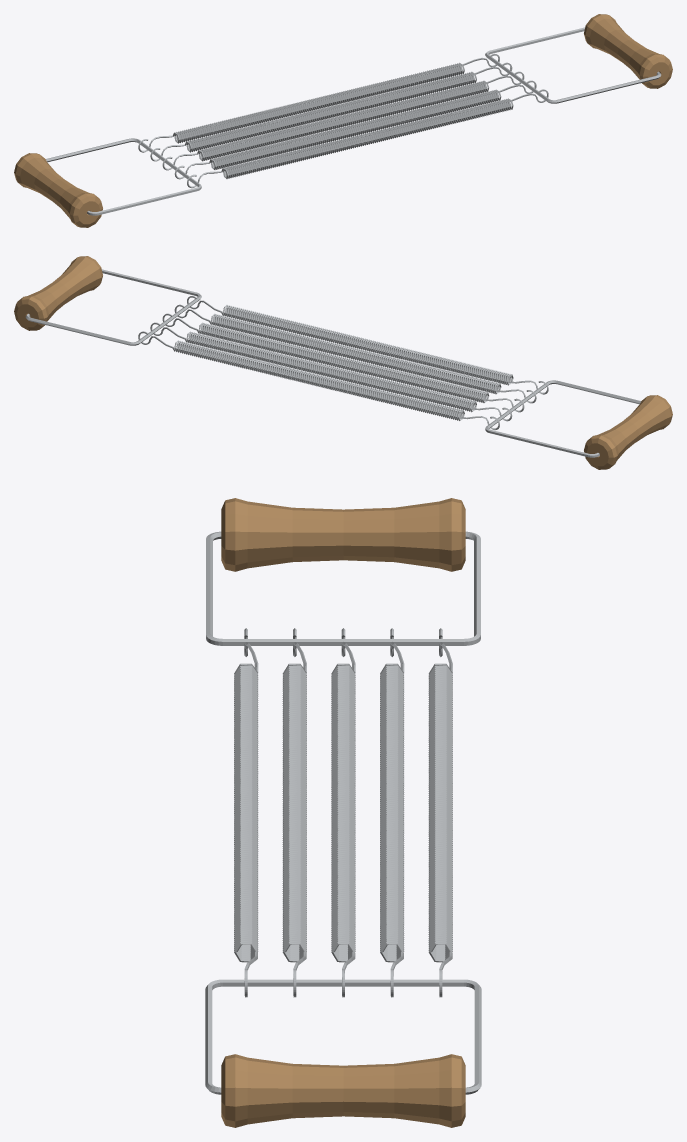
File: NEW577_chest_expander_LOD2.glb
3 renders of one model, top to bottom at view 1: azimuth 30°, elevation 25°; view 2: azimuth 150°, elevation 25°; view 3: azimuth 270°, elevation 25°, orthographic. The views are drawn at different scales.
Parts seen in each view (by area): view 1: Spring_1, Spring_2, Spring_3, Spring_5, Spring_4, Grip_-1, Grip_1, Frame_1, Frame_-1; view 2: Spring_5, Spring_4, Spring_2, Spring_1, Spring_3, Grip_-1, Grip_1, Frame_1, Frame_-1; view 3: Grip_-1, Grip_1, Spring_3, Spring_5, Spring_1, Spring_2, Spring_4, Frame_1, Frame_-1.
Boxes of the visible parts, left/top/right/bottom form: Spring_1: left=187, top=89, right=548, bottom=188; Spring_2: left=174, top=80, right=536, bottom=179; Spring_3: left=162, top=71, right=524, bottom=170; Spring_5: left=138, top=53, right=499, bottom=152; Spring_4: left=150, top=62, right=512, bottom=161; Grip_-1: left=14, top=153, right=102, bottom=227; Grip_1: left=584, top=14, right=672, bottom=88; Frame_1: left=485, top=27, right=661, bottom=103; Frame_-1: left=45, top=138, right=201, bottom=215; Spring_5: left=138, top=331, right=499, bottom=430; Spring_4: left=150, top=322, right=512, bottom=421; Spring_2: left=174, top=304, right=536, bottom=403; Spring_1: left=187, top=296, right=548, bottom=394; Spring_3: left=162, top=313, right=524, bottom=412; Grip_-1: left=584, top=395, right=672, bottom=469; Grip_1: left=14, top=256, right=102, bottom=330; Frame_1: left=25, top=269, right=201, bottom=345; Frame_-1: left=485, top=380, right=641, bottom=457; Grip_-1: left=221, top=498, right=465, bottom=571; Grip_1: left=221, top=1054, right=465, bottom=1127; Spring_3: left=331, top=628, right=355, bottom=997; Spring_5: left=428, top=628, right=452, bottom=997; Spring_1: left=234, top=628, right=258, bottom=997; Spring_2: left=282, top=628, right=306, bottom=997; Spring_4: left=380, top=628, right=404, bottom=997; Frame_1: left=205, top=979, right=481, bottom=1094; Frame_-1: left=206, top=531, right=480, bottom=645.
Size of the model in its own units: 0.6 by 0.032 by 0.1193.
